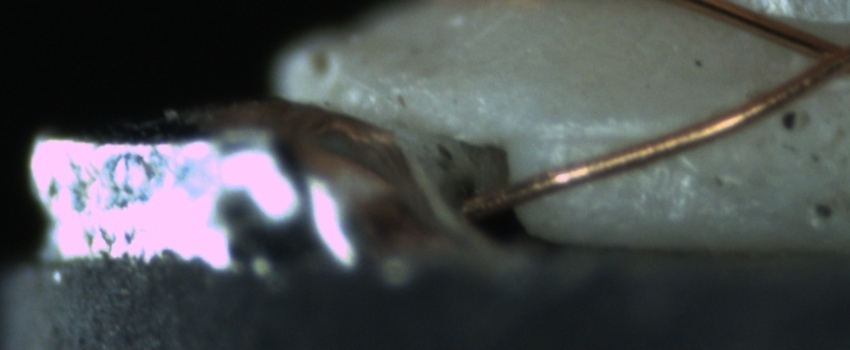CL: (792, 27, 849, 88)
DL: (537, 102, 671, 162)
